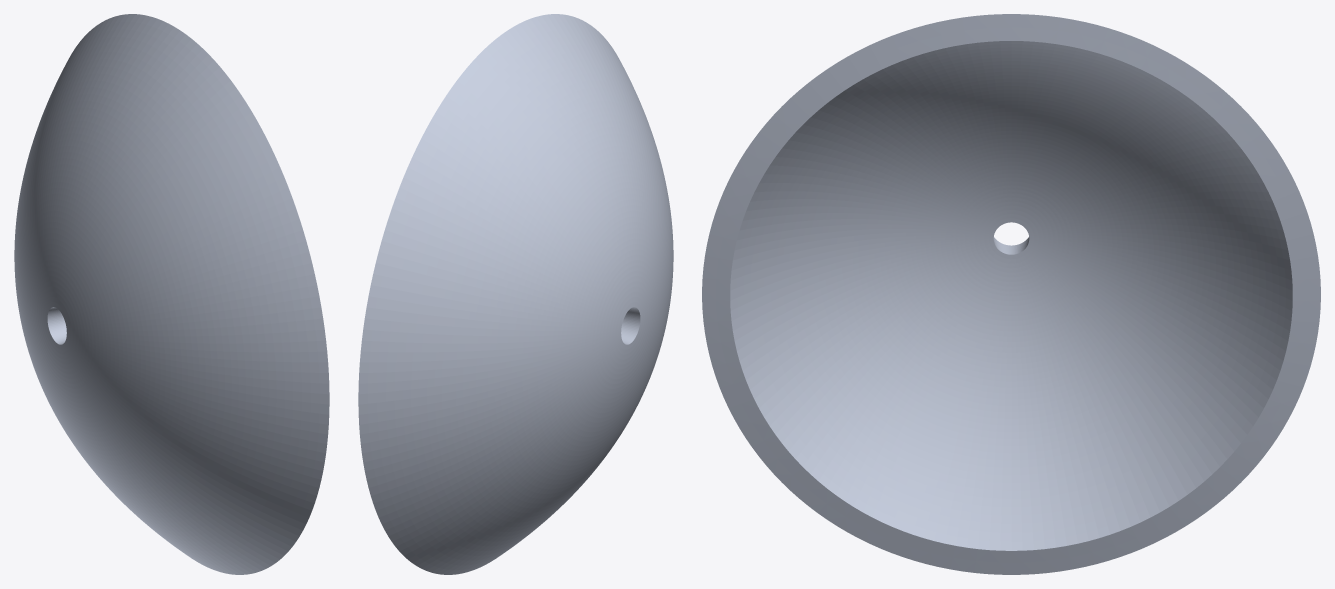
File: p-collector.glb
3 renders of one model, left to right at view 1: azimuth 30°, elevation 25°; view 2: azimuth 150°, elevation 25°; view 3: azimuth 270°, elevation 25°, orthographic. The views are drawn at different scales.
Parts seen in each view (by area): view 1: collector; view 2: collector; view 3: collector.
Boxes of the visible parts, bbox=[...] form: collector: bbox=[14, 14, 329, 574]; collector: bbox=[358, 14, 673, 574]; collector: bbox=[702, 14, 1320, 574].
Bounding box in the file's own units: 0.1446 × 0.5464 × 0.5463.
